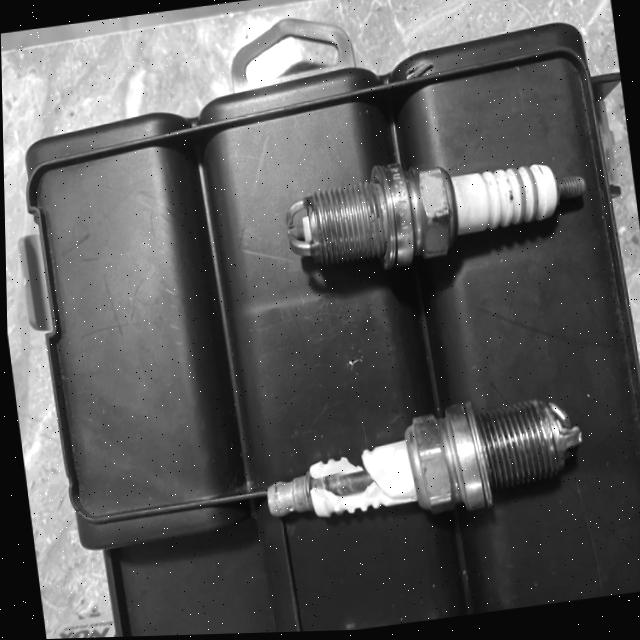damaged_spark-plug: (249, 391, 599, 572)
spark-plug: (273, 134, 605, 304)
